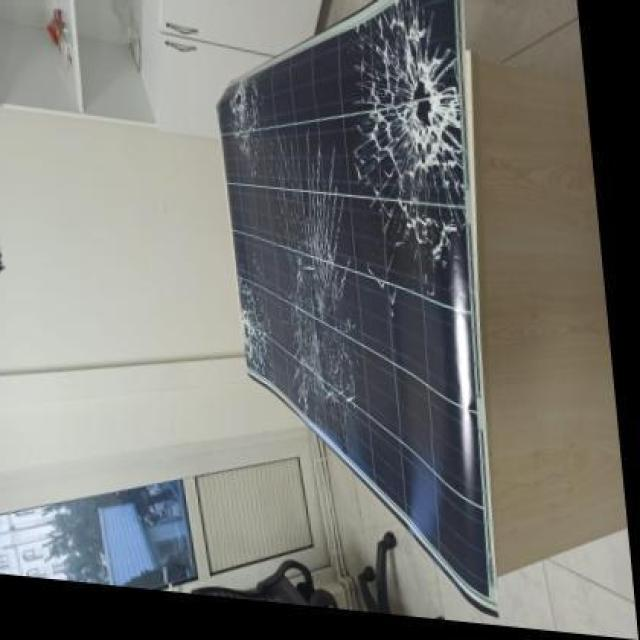cracked: (210, 0, 494, 611)
